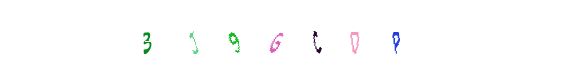3: (148, 0, 228, 80)
9: (227, 0, 307, 80)
C: (274, 0, 354, 80)
D: (277, 0, 357, 80)
G: (247, 0, 327, 80)
J: (177, 0, 257, 80)
P: (356, 0, 436, 80)
